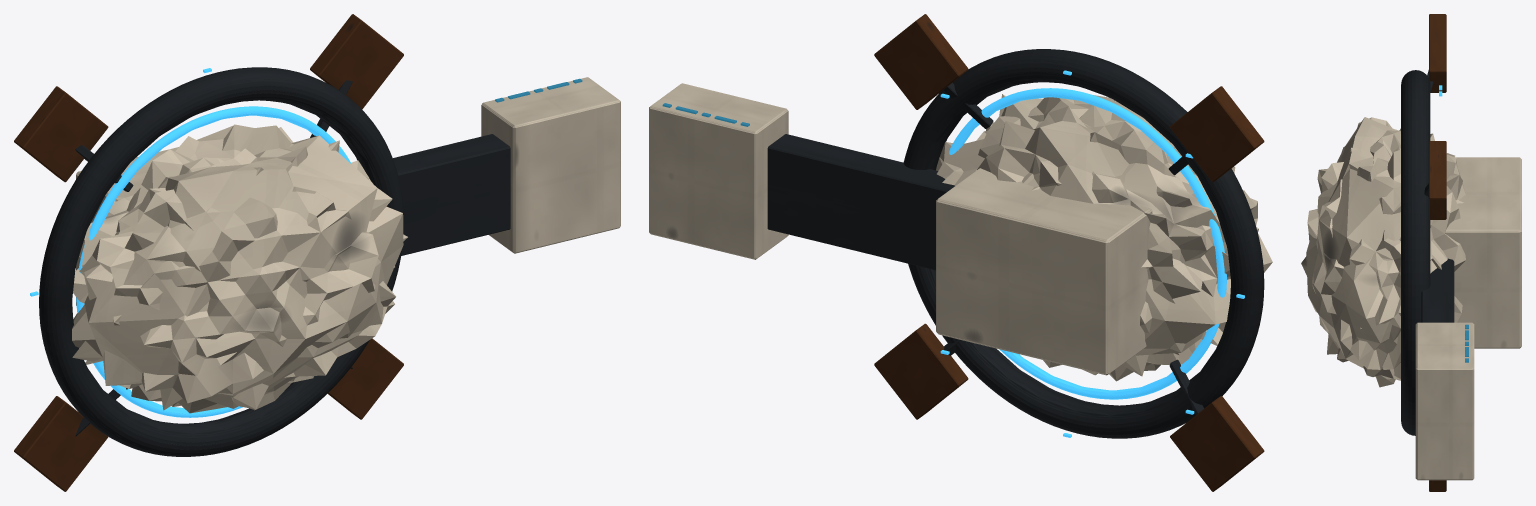
The model's file is place_claim_outpost_base.glb.
3 views of the same model, side by side, from view 1: azimuth 30°, elevation 25°; view 2: azimuth 150°, elevation 25°; view 3: azimuth 270°, elevation 25° (orthographic). The views are drawn at different scales.
Parts seen in each view (by area): view 1: LOD0_Station_Material_Hull, LOD0_Station_Material_Mechanical, LOD1_Station_Material_Hull, LOD2_Station_Material_Hull, LOD2_Station_Material_Mechanical, LOD0_Station_Material_Warm, LOD1_Station_Material_Mechanical, LOD1_Station_Material_Warm, LOD2_Station_Material_Warm, LOD0_Station_Material_Accent, LOD2_Station_Material_Accent, LOD1_Station_Material_Accent; view 2: LOD0_Station_Material_Hull, LOD1_Station_Material_Hull, LOD0_Station_Material_Mechanical, LOD2_Station_Material_Hull, LOD1_Station_Material_Mechanical, LOD0_Station_Material_Warm, LOD1_Station_Material_Warm, LOD2_Station_Material_Mechanical, LOD2_Station_Material_Warm, LOD0_Station_Material_Accent, LOD2_Station_Material_Accent, LOD1_Station_Material_Accent; view 3: LOD0_Station_Material_Hull, LOD1_Station_Material_Hull, LOD2_Station_Material_Hull, LOD0_Station_Material_Mechanical, LOD1_Station_Material_Mechanical, LOD0_Station_Material_Warm, LOD2_Station_Material_Warm, LOD1_Station_Material_Warm, LOD2_Station_Material_Mechanical.
Boxes of the visible parts, bbox=[...] form: LOD0_Station_Material_Hull: bbox=[72, 78, 617, 410]; LOD0_Station_Material_Mechanical: bbox=[39, 67, 510, 456]; LOD1_Station_Material_Hull: bbox=[72, 77, 619, 413]; LOD2_Station_Material_Hull: bbox=[76, 77, 620, 408]; LOD2_Station_Material_Mechanical: bbox=[55, 77, 510, 446]; LOD0_Station_Material_Warm: bbox=[15, 16, 401, 477]; LOD1_Station_Material_Mechanical: bbox=[39, 68, 510, 455]; LOD1_Station_Material_Warm: bbox=[15, 14, 403, 490]; LOD2_Station_Material_Warm: bbox=[14, 14, 403, 491]; LOD0_Station_Material_Accent: bbox=[30, 68, 351, 417]; LOD2_Station_Material_Accent: bbox=[83, 109, 339, 414]; LOD1_Station_Material_Accent: bbox=[30, 68, 344, 417]; LOD0_Station_Material_Hull: bbox=[652, 90, 1257, 381]; LOD1_Station_Material_Hull: bbox=[650, 84, 1258, 374]; LOD0_Station_Material_Mechanical: bbox=[767, 49, 1264, 438]; LOD2_Station_Material_Hull: bbox=[649, 83, 1272, 375]; LOD1_Station_Material_Mechanical: bbox=[767, 50, 1264, 437]; LOD0_Station_Material_Warm: bbox=[876, 16, 1261, 487]; LOD1_Station_Material_Warm: bbox=[875, 15, 1263, 491]; LOD2_Station_Material_Mechanical: bbox=[767, 58, 1247, 427]; LOD2_Station_Material_Warm: bbox=[874, 14, 1264, 491]; LOD0_Station_Material_Accent: bbox=[940, 70, 1244, 436]; LOD2_Station_Material_Accent: bbox=[951, 90, 1219, 399]; LOD1_Station_Material_Accent: bbox=[950, 71, 1244, 437]; LOD0_Station_Material_Hull: bbox=[1301, 117, 1516, 477]; LOD1_Station_Material_Hull: bbox=[1306, 117, 1520, 479]; LOD2_Station_Material_Hull: bbox=[1316, 157, 1521, 480]; LOD0_Station_Material_Mechanical: bbox=[1401, 70, 1451, 435]; LOD1_Station_Material_Mechanical: bbox=[1404, 71, 1453, 433]; LOD0_Station_Material_Warm: bbox=[1431, 15, 1444, 491]; LOD2_Station_Material_Warm: bbox=[1429, 14, 1446, 491]; LOD1_Station_Material_Warm: bbox=[1429, 15, 1444, 490]; LOD2_Station_Material_Mechanical: bbox=[1405, 70, 1454, 362].
Size of what is drawn, in the model's own units: 81.93 by 52.86 by 30.17.
Materials: 5 (5 with a texture image).
